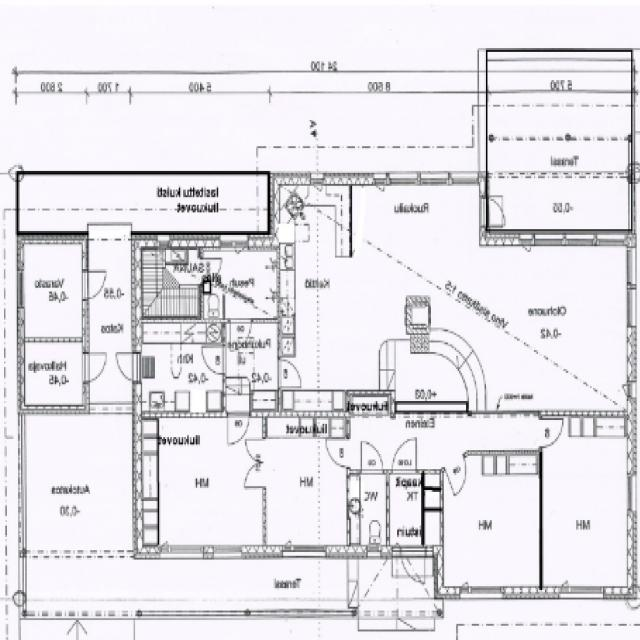door: (444, 453, 476, 497), (402, 544, 425, 589), (110, 352, 144, 380), (479, 196, 509, 227), (82, 352, 111, 382), (392, 438, 416, 474), (82, 271, 110, 300), (228, 411, 250, 447), (325, 439, 351, 468), (361, 442, 383, 474), (230, 319, 252, 351), (539, 420, 564, 448), (278, 360, 301, 388), (203, 348, 226, 373), (245, 439, 267, 463), (245, 463, 267, 487), (200, 258, 220, 280)
